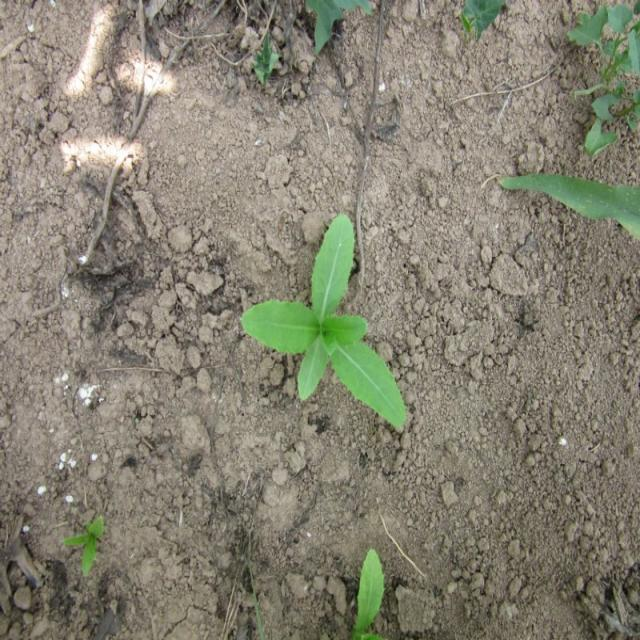field_thistle: (225, 195, 430, 427)
